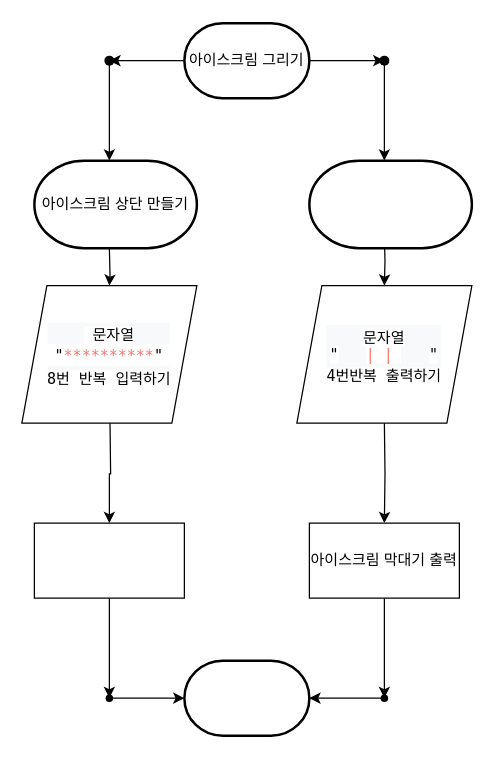
This 495x758 diagram has some shape labels left out. Here are the shapes that lost their labels. From the top down, the centre of each, then its label:
At pixel 390 204: "아이스크림 막대기 만들기".
At pixel 108 560: "아이스크림 상단 출력".
At pixel 246 697: "아이스크림 완성".
